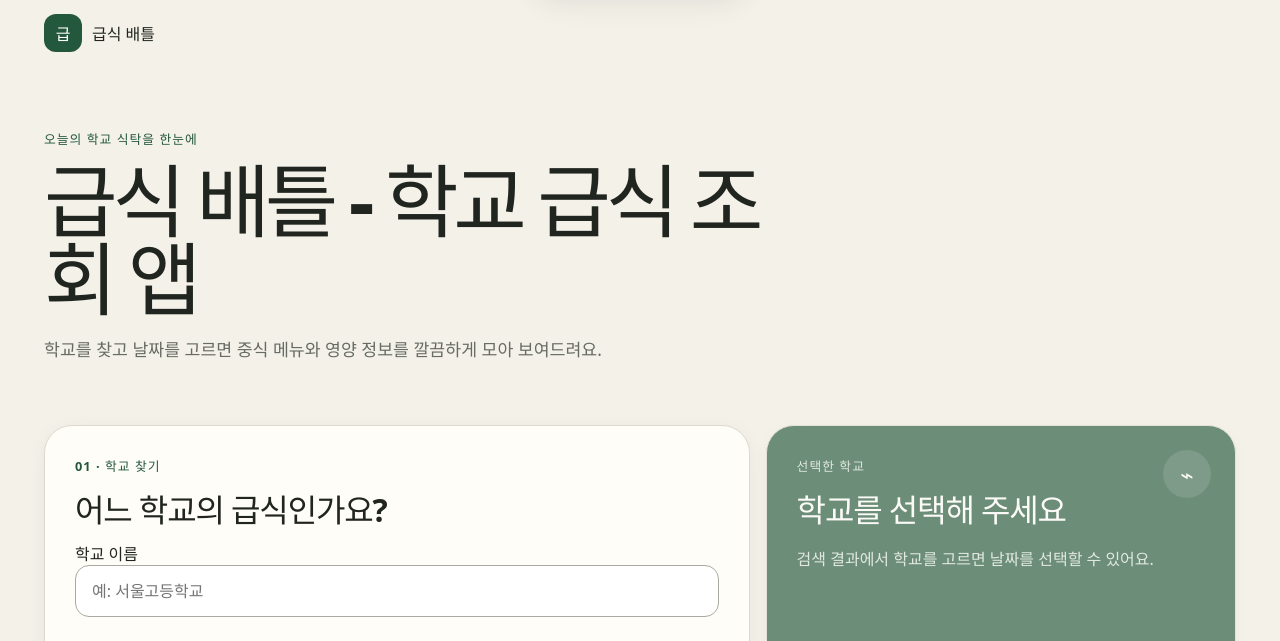
Test: school lunch flow › shows a fallback when a meal has no menu details
Step 1. Type "서울" into the field labelled "학교 이름" → (397, 591), box [75,565,719,617]
(page scrolled)
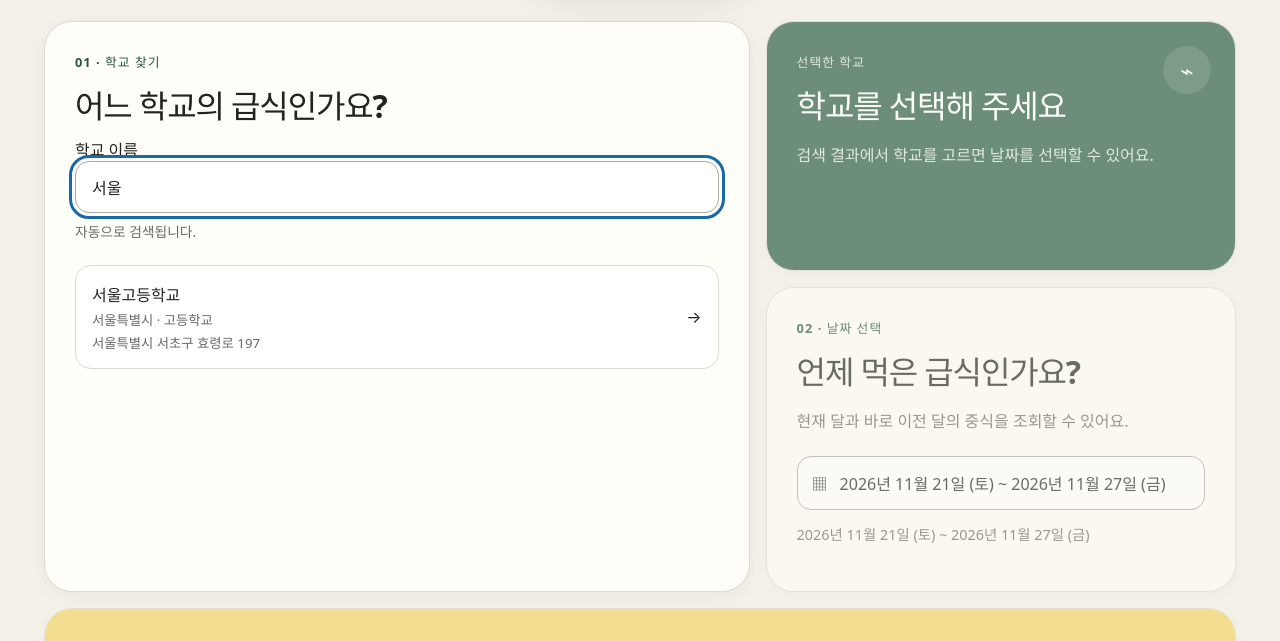
Step 2. Click the button "서울고등학교 서울특별시 · 고등학교 서울특별시 서초구 효령로 197 →" → (136, 295), box [75,265,719,369]
(page scrolled)
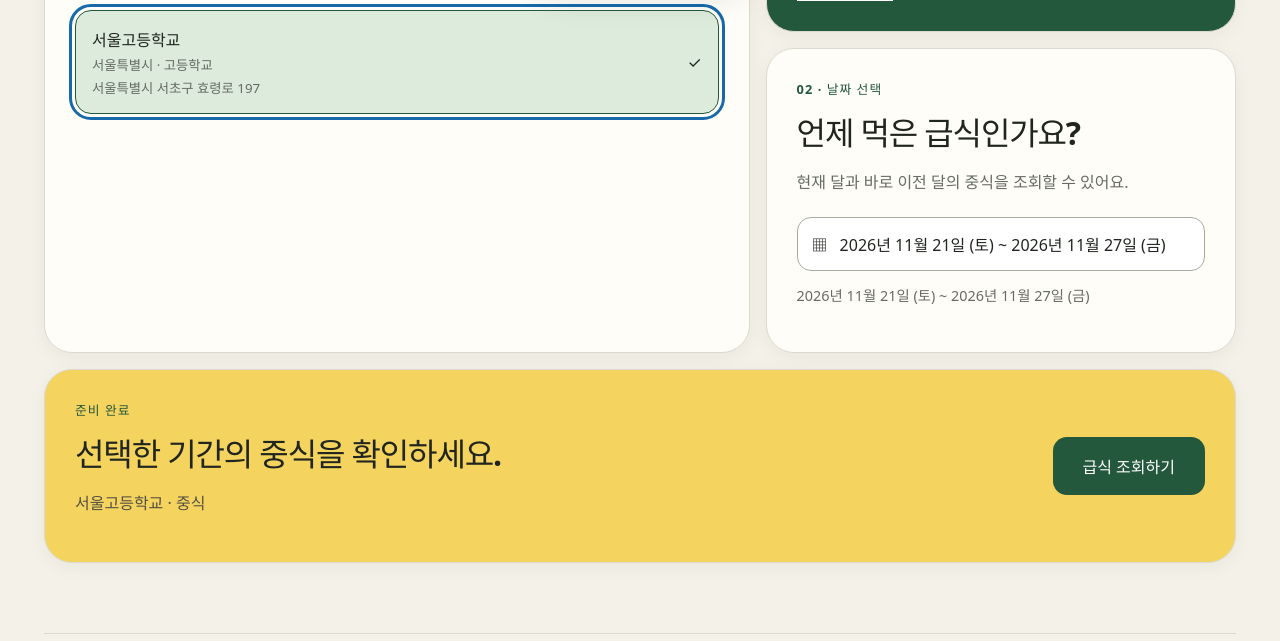
Step 3. Click the button "급식 조회하기" → (1129, 466), box [1052,437,1205,495]
(page scrolled)
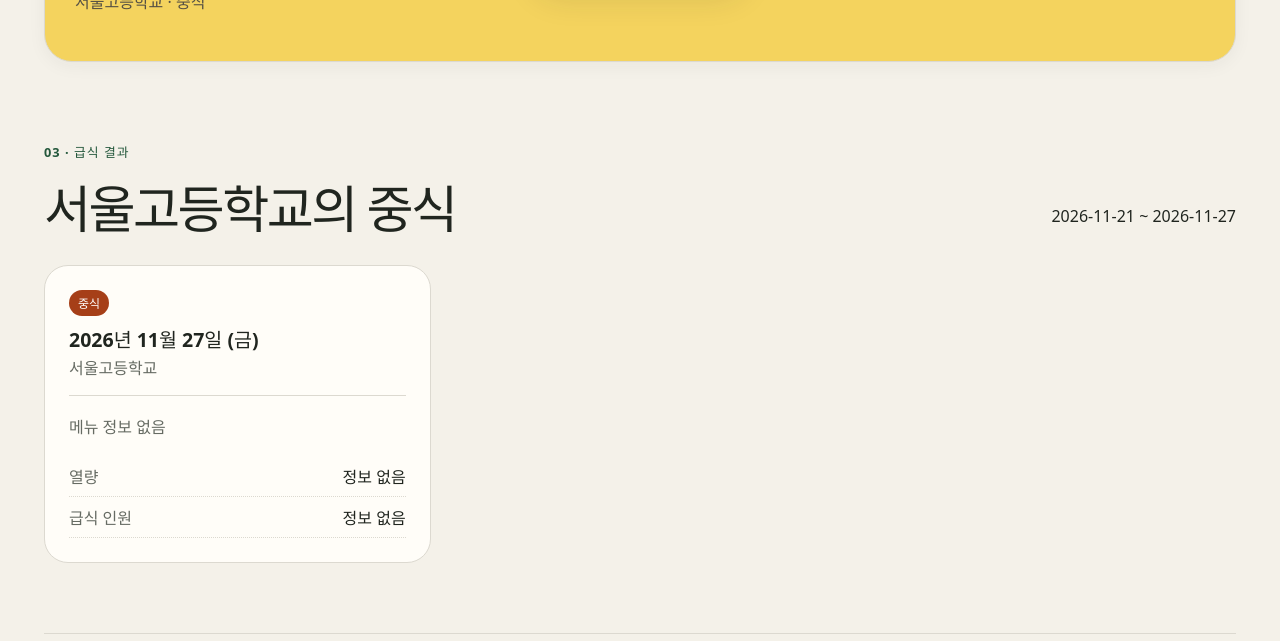
Check: the text "메뉴 정보 없음" is shown, box [69,416,166,438]
